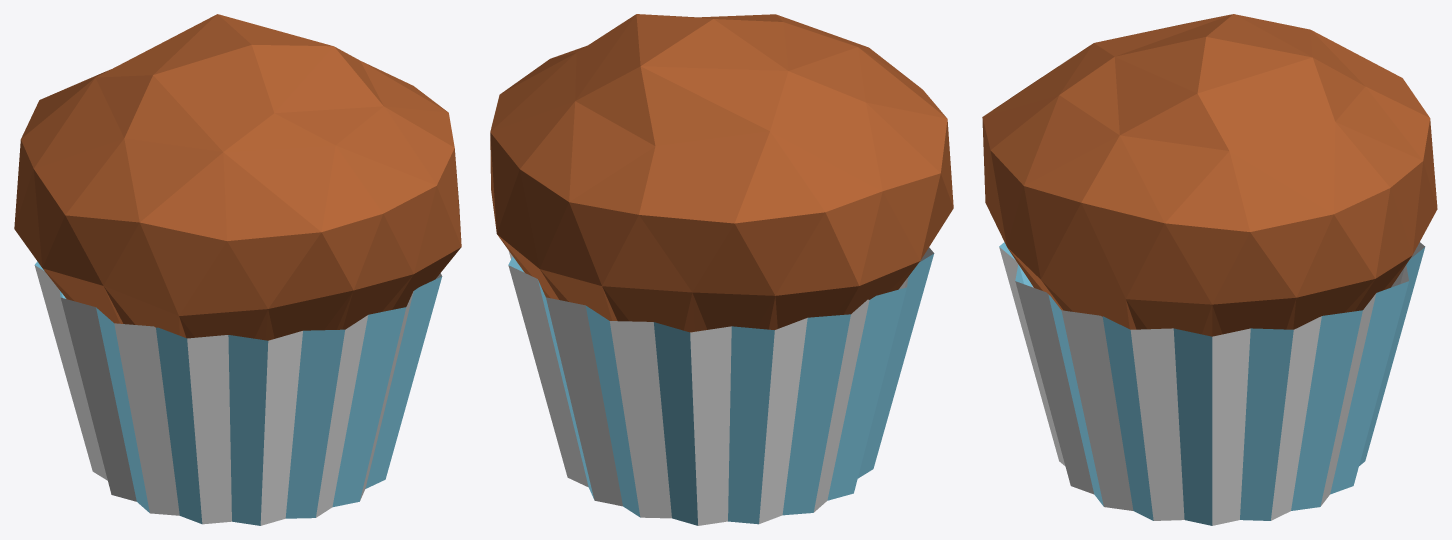
File: muffin_plain.fbx
3 views of the same model, side by side, from view 1: azimuth 30°, elevation 25°; view 2: azimuth 150°, elevation 25°; view 3: azimuth 270°, elevation 25° (orthographic). The views are drawn at different scales.
Visible parts, largest first — view 1: muffin_plain; view 2: muffin_plain; view 3: muffin_plain.
Boxes of the visible parts, x1=… form: muffin_plain: x1=14, y1=14, x2=461, y2=525; muffin_plain: x1=490, y1=14, x2=953, y2=525; muffin_plain: x1=982, y1=14, x2=1437, y2=525.
Bounding box in the file's own units: 6.48 × 6.69 × 6.44.
